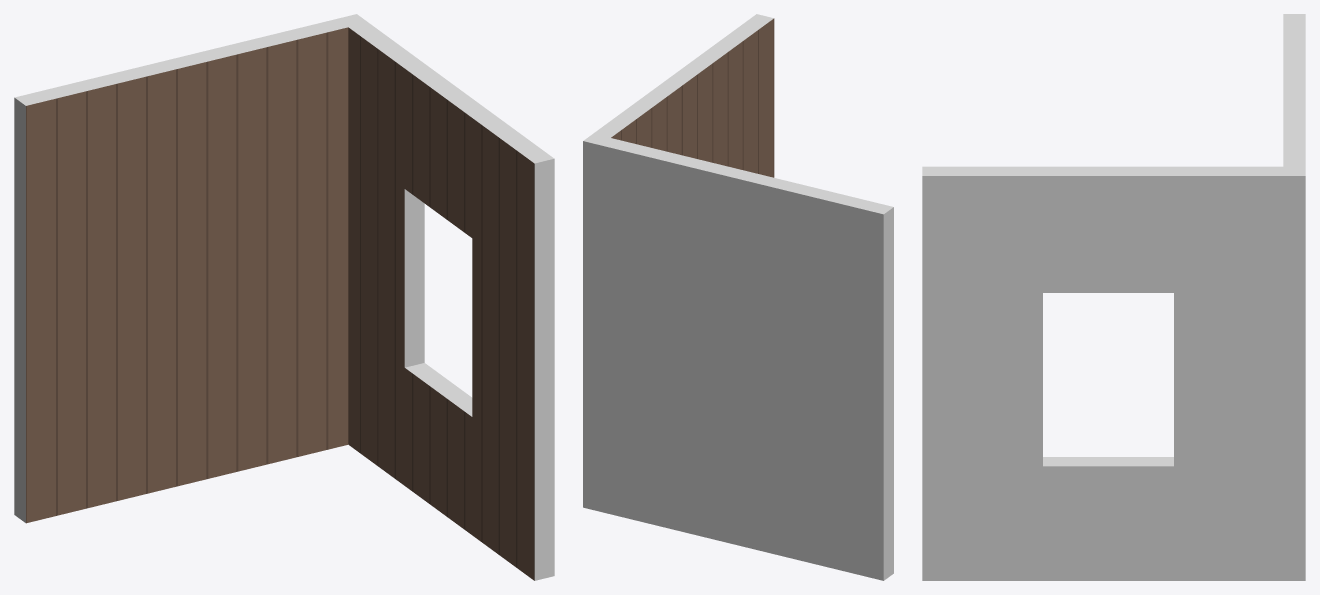
The model's file is Wall1_C9_08.fbx.
3 views of the same model, side by side, from view 1: azimuth 30°, elevation 25°; view 2: azimuth 150°, elevation 25°; view 3: azimuth 270°, elevation 25° (orthographic). The views are drawn at different scales.
Parts seen in each view (by area): view 1: Wall1_C9_08; view 2: Wall1_C9_08; view 3: Wall1_C9_08.
Part boxes in pixels (box(x1,y1,x2,y2)): Wall1_C9_08: box(14, 14, 554, 580); Wall1_C9_08: box(583, 14, 893, 580); Wall1_C9_08: box(922, 14, 1305, 580).
Bounding box in the file's own units: 258 × 300 × 258.
